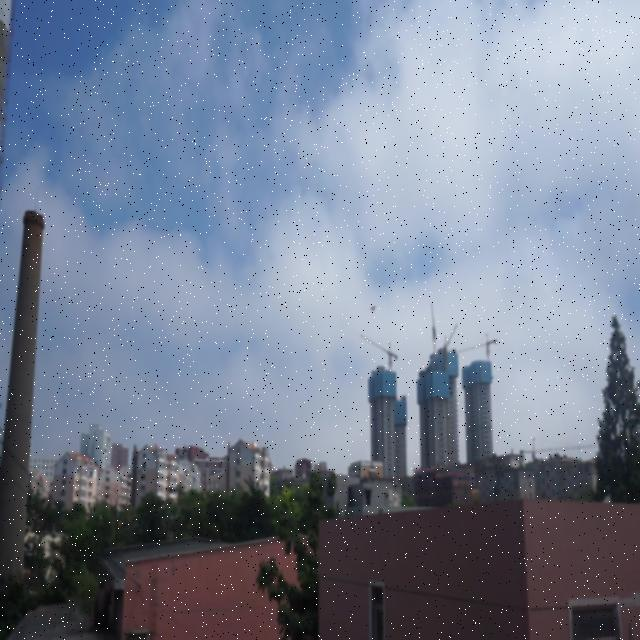UAV: (368, 304, 378, 313)
